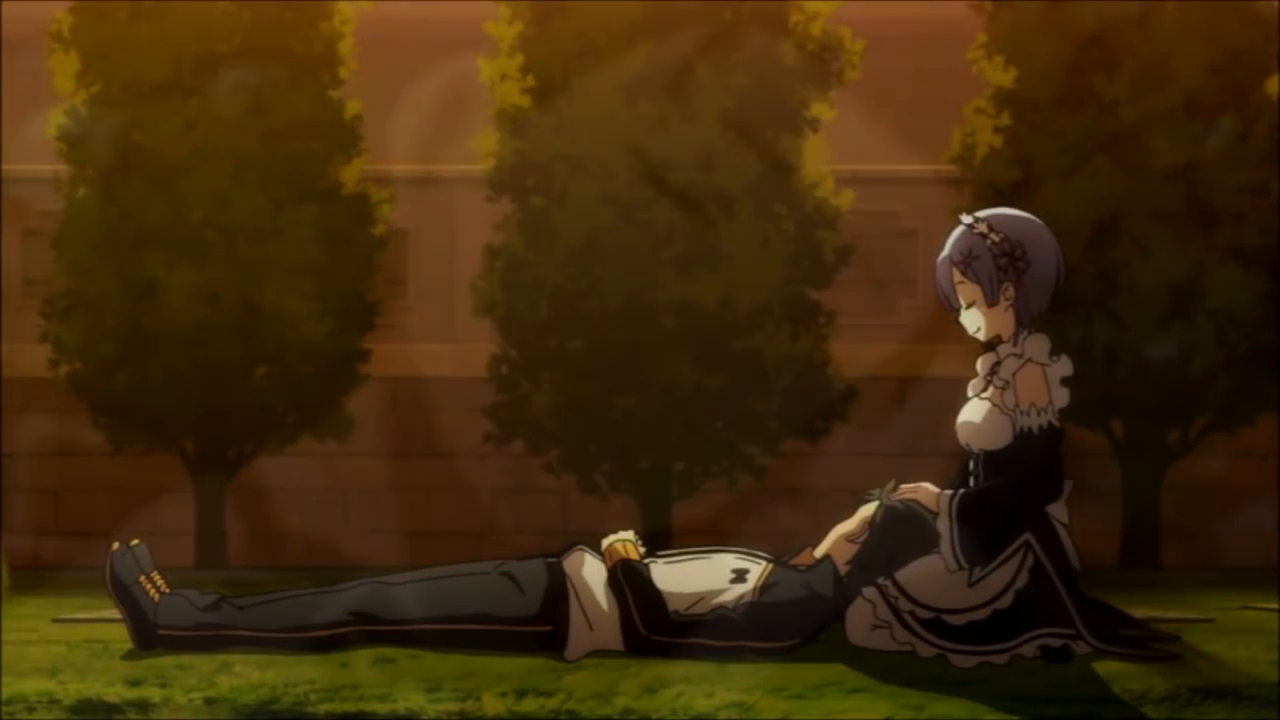REM: (933, 200, 1064, 357)
